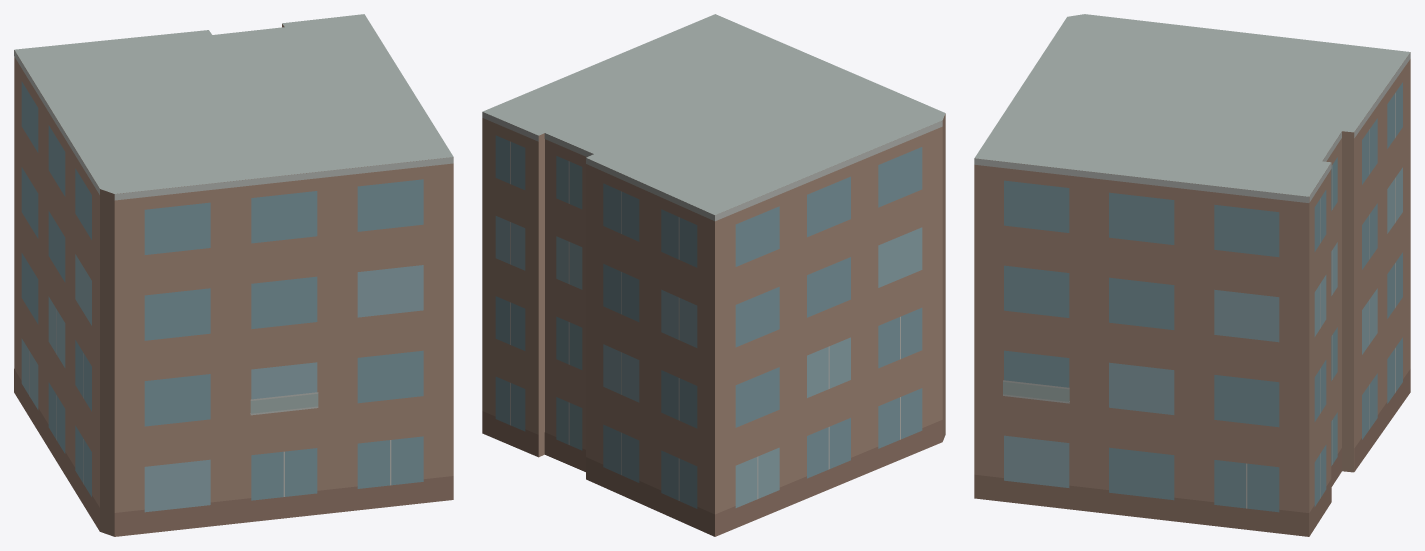
Rendered from survey-upis-32737261.glb.
3 renders of one model, left to right at view 1: azimuth 30°, elevation 25°; view 2: azimuth 150°, elevation 25°; view 3: azimuth 270°, elevation 25°, orthographic. The views are drawn at different scales.
Visible parts, largest first — view 1: survey-upis-32737261.tmp; view 2: survey-upis-32737261.tmp; view 3: survey-upis-32737261.tmp.
Part boxes in pixels (x1,y1,x2,y2): survey-upis-32737261.tmp: [14, 14, 453, 536]; survey-upis-32737261.tmp: [482, 14, 945, 536]; survey-upis-32737261.tmp: [974, 14, 1410, 536].
Bounding box in the file's own units: 14.94 × 12.95 × 15.07.
